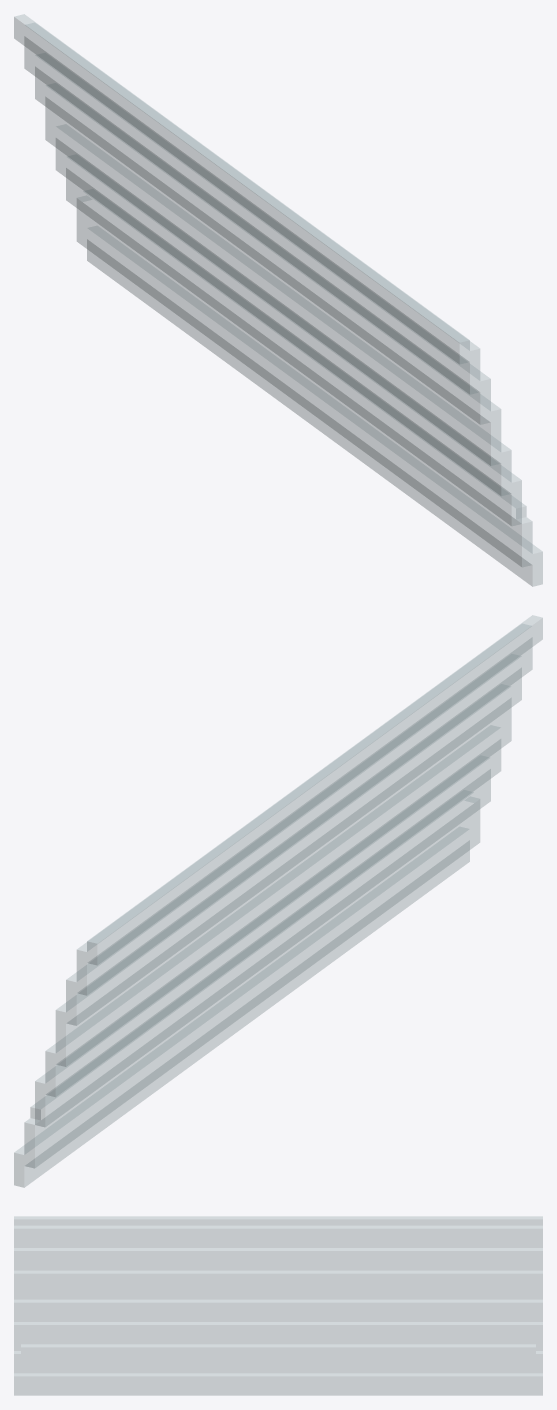
Rendered from street_sweeper_windscreen.glb.
3 views of the same model, one above another, from view 1: azimuth 30°, elevation 25°; view 2: azimuth 150°, elevation 25°; view 3: azimuth 270°, elevation 25° (orthographic). The views are drawn at different scales.
Parts seen in each view (by area): view 1: body:compound; view 2: body:compound; view 3: body:compound.
Part boxes in pixels (box(x1,y1,x2,y2)): body:compound: box(14, 14, 542, 586); body:compound: box(14, 615, 542, 1187); body:compound: box(14, 1216, 542, 1395).
Size of the model in its own units: 0.25 by 0.75 by 2.31.
